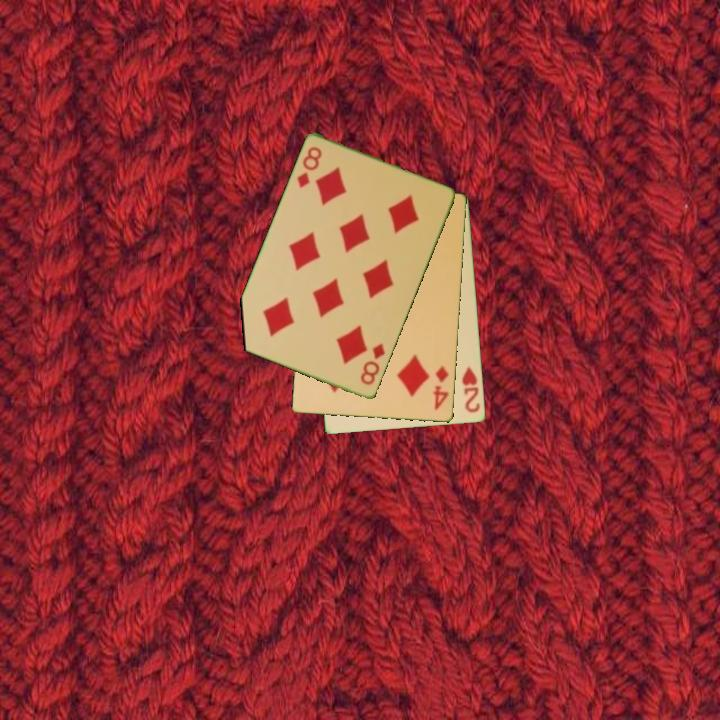2h: (459, 364, 483, 416)
4d: (430, 362, 452, 413)
8d: (357, 340, 388, 388), (294, 143, 325, 191)
